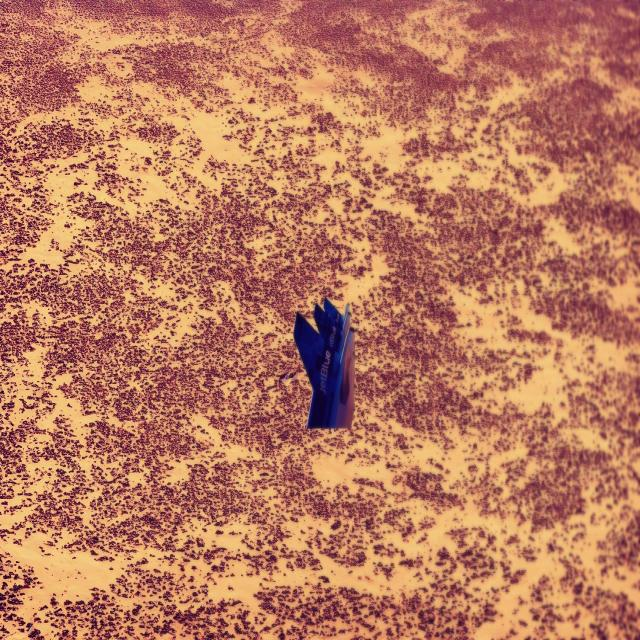airplane: (293, 296, 355, 431)
